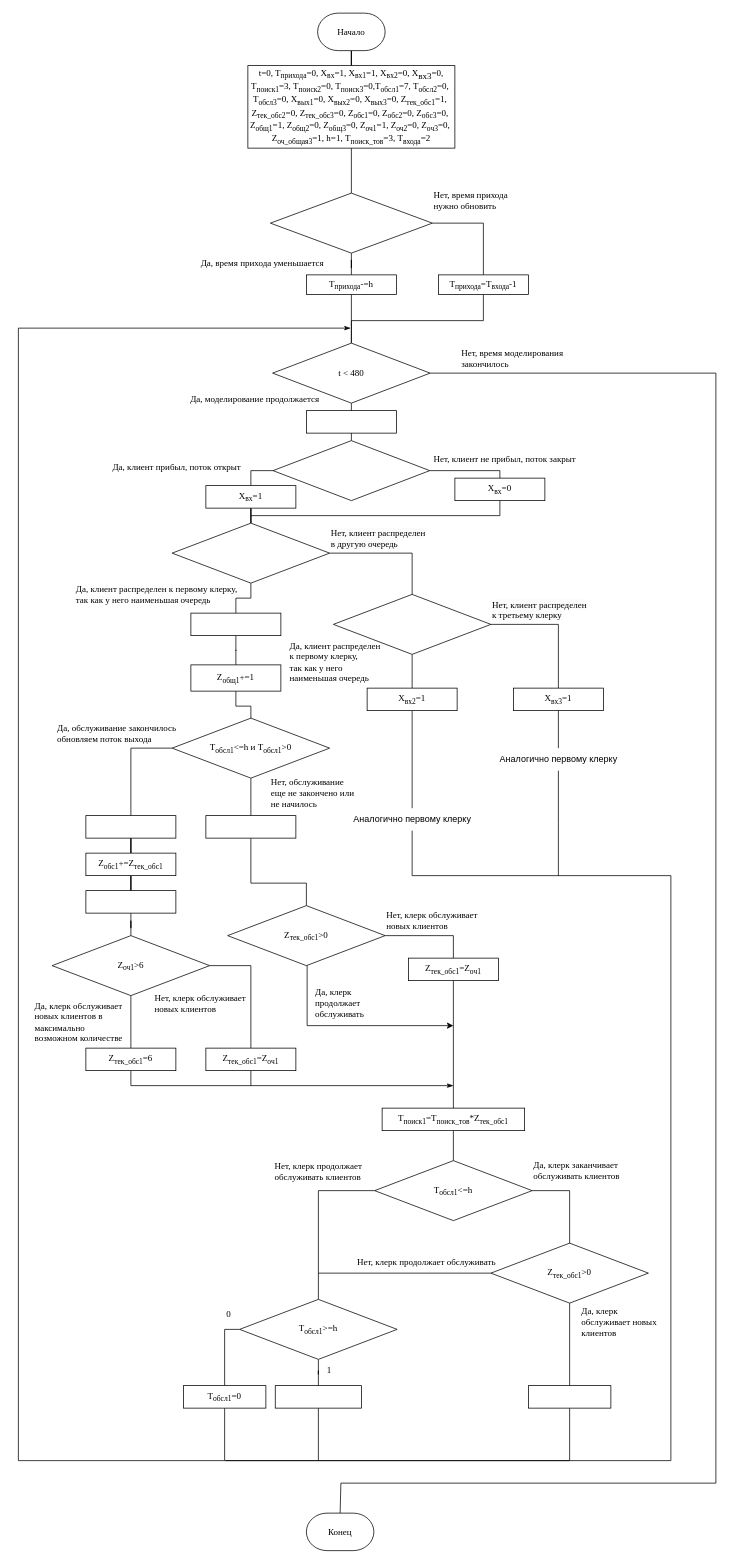
Some shapes in this 730 by 1564 pixel diagram are drawn without their labels. Each missing label, with the centre of its shape:
T обсл1 =4+T поиск1: [569,1396]
T обсл1 =T обсл1 - h: [318,1396]
T прихода =0: [351,470]
T прихода >0: [351,222]
t+=h: [351,421]
Z оч 1 =Z общ 1 - Z обс 1: [130,901]
Z оч1 <= Z оч2 и Z оч1 <= Z оч3: [250,552]
Z оч2 <= Z оч3: [412,624]
Х вх1 =1: [235,624]
Х вых1 =0: [250,826]
Х вых1 =1: [130,826]
